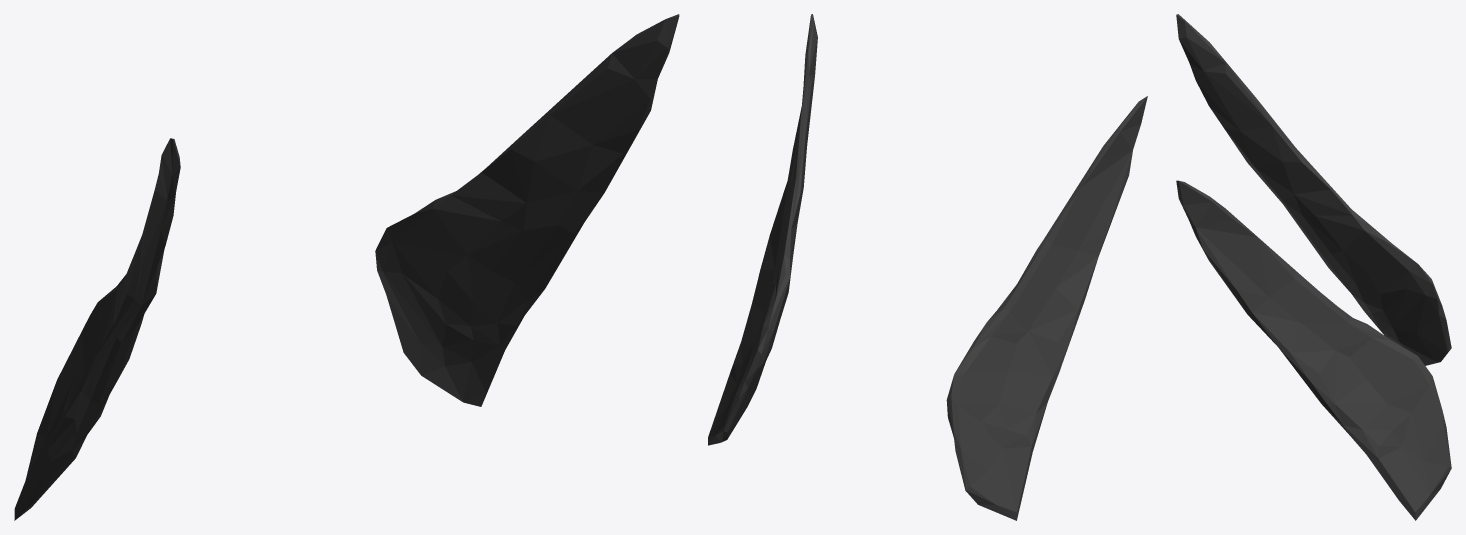
File: fascia_femoris.glb
3 views of the same model, side by side, from view 1: azimuth 30°, elevation 25°; view 2: azimuth 150°, elevation 25°; view 3: azimuth 270°, elevation 25° (orthographic). The views are drawn at different scales.
Visible parts, largest first — view 1: fascia_femoris; view 2: fascia_femoris; view 3: fascia_femoris.
Boxes of the visible parts, box(x1,y1,x2,y2) form: fascia_femoris: box(14, 14, 679, 520); fascia_femoris: box(708, 14, 1147, 520); fascia_femoris: box(1176, 14, 1451, 520).
Bounding box in the file's own units: 0.00456 × 0.00444 × 0.00319.
Materials: 1 (1 with a texture image).
